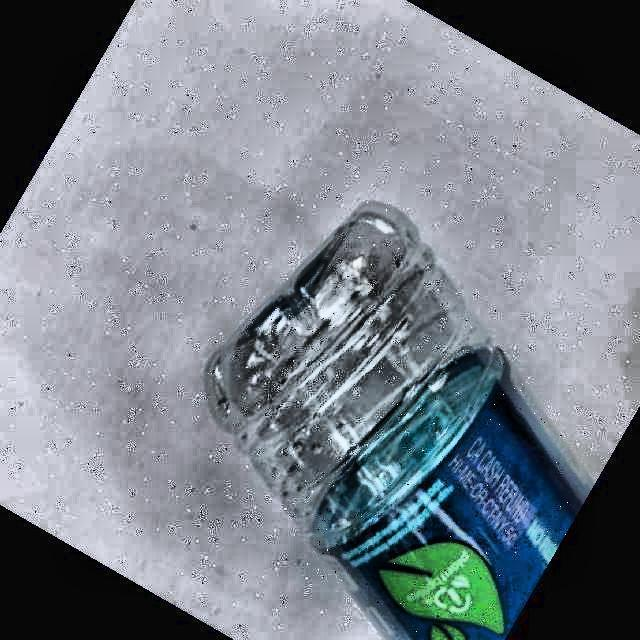plastic: (208, 202, 588, 640)
